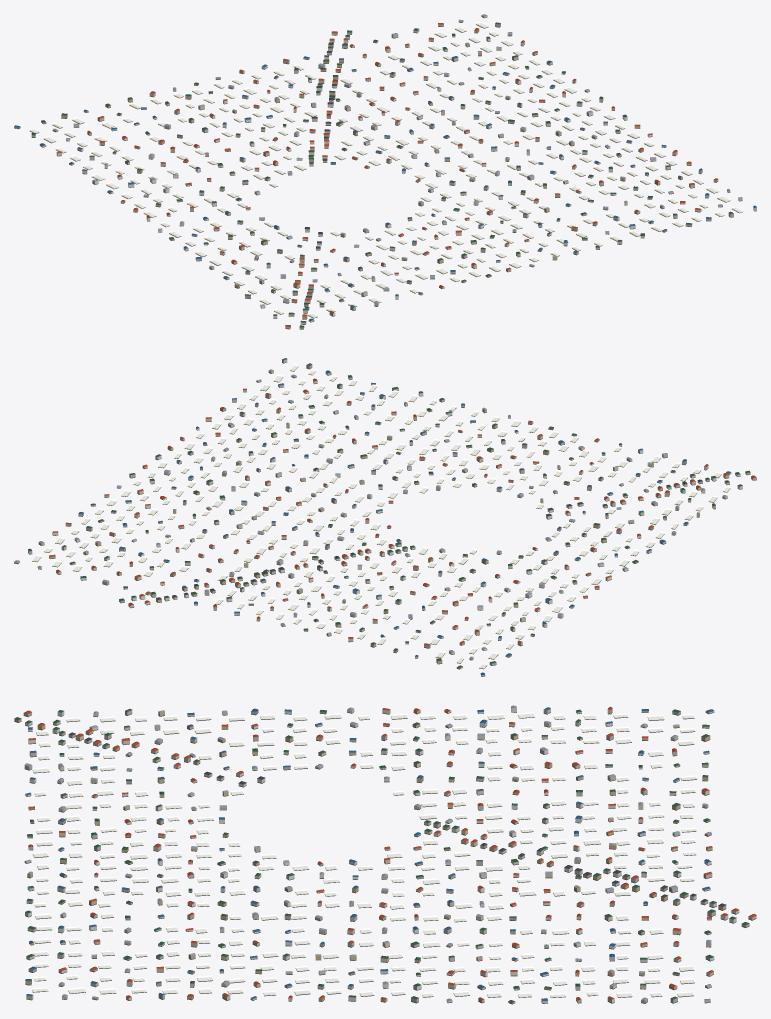
Rendered from buildings_T_W08_S04.glb.
The picture shows the model from 3 angles, top to bottom: view 1: azimuth 30°, elevation 25°; view 2: azimuth 150°, elevation 25°; view 3: azimuth 270°, elevation 25°; orthographic projection. The views are drawn at different scales.
Visible parts, largest first — view 1: T_W08_S04_roofs_agri_greenhouse_arch, T_W08_S04_slope_seating_foundations, T_W08_S04_walls_wall_modern_warm_white, T_W08_S04_walls_wall_pastel_sand_gray, T_W08_S04_walls_wall_dalat_cream_stucco, T_W08_S04_walls_wall_french_ochre_villa, T_W08_S04_roofs_roof_terracotta_gable, T_W08_S04_roofs_roof_pine_green_hip, T_W08_S04_roofs_roof_zinc_silver_gable, T_W08_S04_roofs_roof_highland_blue_gable; view 2: T_W08_S04_roofs_agri_greenhouse_arch, T_W08_S04_slope_seating_foundations, T_W08_S04_walls_wall_modern_warm_white, T_W08_S04_walls_wall_dalat_cream_stucco, T_W08_S04_walls_wall_french_ochre_villa, T_W08_S04_walls_wall_pastel_sand_gray, T_W08_S04_roofs_roof_terracotta_gable, T_W08_S04_roofs_roof_pine_green_hip, T_W08_S04_roofs_roof_zinc_silver_gable, T_W08_S04_roofs_roof_highland_blue_gable; view 3: T_W08_S04_roofs_agri_greenhouse_arch, T_W08_S04_slope_seating_foundations, T_W08_S04_walls_wall_modern_warm_white, T_W08_S04_walls_wall_dalat_cream_stucco, T_W08_S04_walls_wall_french_ochre_villa, T_W08_S04_walls_wall_pastel_sand_gray, T_W08_S04_roofs_roof_terracotta_gable, T_W08_S04_roofs_roof_pine_green_hip, T_W08_S04_roofs_roof_zinc_silver_gable, T_W08_S04_roofs_roof_highland_blue_gable.
Boxes of the visible parts, left/top/right/bottom form: T_W08_S04_roofs_agri_greenhouse_arch: left=29, top=21, right=743, bottom=317; T_W08_S04_slope_seating_foundations: left=14, top=16, right=756, bottom=329; T_W08_S04_walls_wall_modern_warm_white: left=66, top=29, right=701, bottom=324; T_W08_S04_walls_wall_pastel_sand_gray: left=31, top=23, right=722, bottom=328; T_W08_S04_walls_wall_dalat_cream_stucco: left=14, top=15, right=756, bottom=316; T_W08_S04_walls_wall_french_ochre_villa: left=52, top=29, right=733, bottom=329; T_W08_S04_roofs_roof_terracotta_gable: left=57, top=23, right=718, bottom=326; T_W08_S04_roofs_roof_pine_green_hip: left=31, top=22, right=691, bottom=327; T_W08_S04_roofs_roof_zinc_silver_gable: left=53, top=14, right=742, bottom=306; T_W08_S04_roofs_roof_highland_blue_gable: left=14, top=56, right=756, bottom=320; T_W08_S04_roofs_agri_greenhouse_arch: left=32, top=364, right=730, bottom=668; T_W08_S04_slope_seating_foundations: left=14, top=362, right=756, bottom=676; T_W08_S04_walls_wall_modern_warm_white: left=52, top=380, right=742, bottom=658; T_W08_S04_walls_wall_dalat_cream_stucco: left=14, top=359, right=729, bottom=676; T_W08_S04_walls_wall_french_ochre_villa: left=49, top=365, right=750, bottom=663; T_W08_S04_walls_wall_pastel_sand_gray: left=28, top=372, right=756, bottom=665; T_W08_S04_roofs_roof_terracotta_gable: left=49, top=378, right=756, bottom=645; T_W08_S04_roofs_roof_pine_green_hip: left=28, top=375, right=750, bottom=667; T_W08_S04_roofs_roof_zinc_silver_gable: left=14, top=369, right=726, bottom=658; T_W08_S04_roofs_roof_highland_blue_gable: left=78, top=358, right=730, bottom=675; T_W08_S04_roofs_agri_greenhouse_arch: left=32, top=712, right=697, bottom=997; T_W08_S04_slope_seating_foundations: left=14, top=711, right=756, bottom=1004; T_W08_S04_walls_wall_modern_warm_white: left=25, top=708, right=739, bottom=1002; T_W08_S04_walls_wall_dalat_cream_stucco: left=24, top=708, right=756, bottom=1003; T_W08_S04_walls_wall_french_ochre_villa: left=14, top=710, right=726, bottom=1001; T_W08_S04_walls_wall_pastel_sand_gray: left=23, top=710, right=749, bottom=1003; T_W08_S04_roofs_roof_terracotta_gable: left=24, top=706, right=756, bottom=1000; T_W08_S04_roofs_roof_pine_green_hip: left=14, top=709, right=749, bottom=1002; T_W08_S04_roofs_roof_zinc_silver_gable: left=25, top=705, right=711, bottom=1001; T_W08_S04_roofs_roof_highland_blue_gable: left=25, top=707, right=713, bottom=1001.
Size of the model in its own units: 1752 by 26.18 by 1890.
